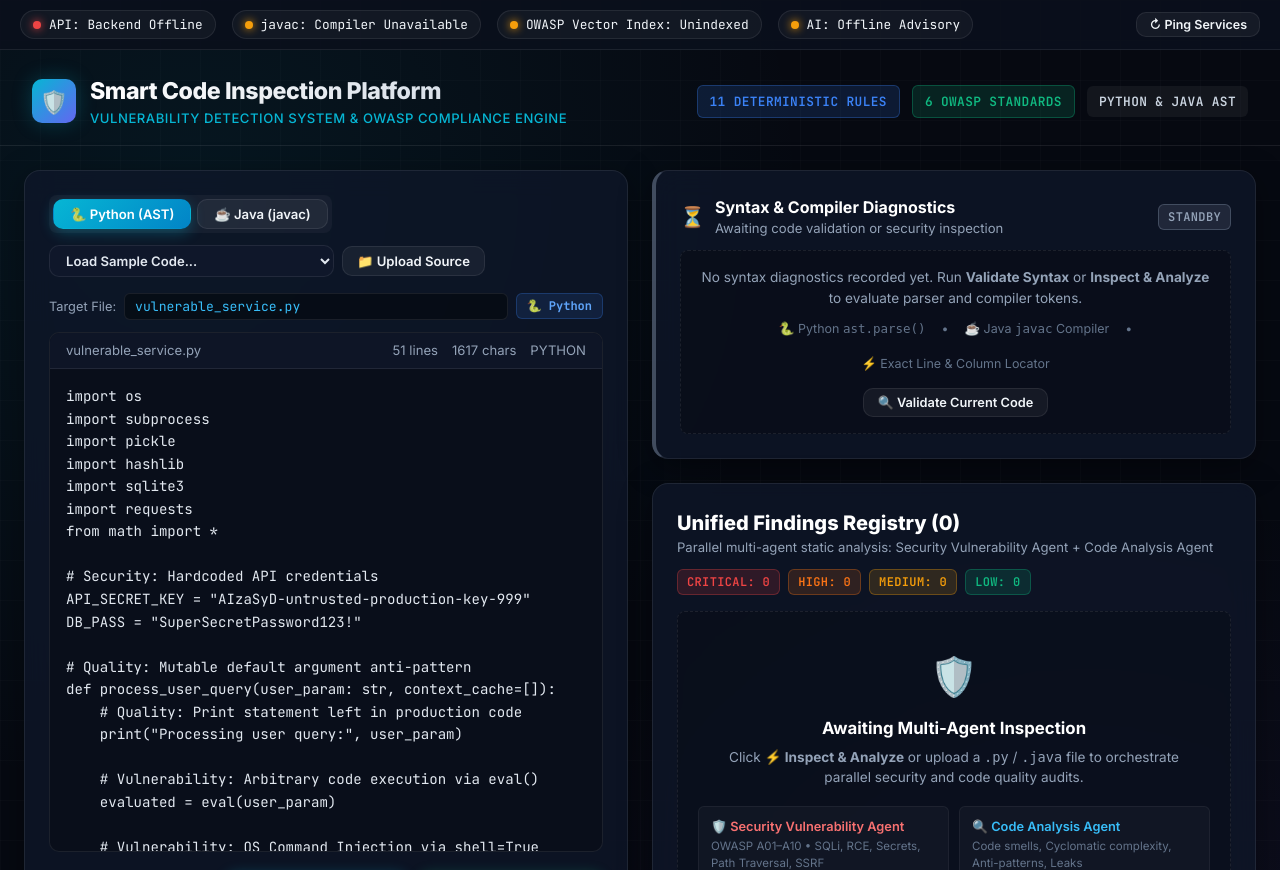
Test: Smart Code Inspection Dashboard › allows language switching between Python and Java
This screenshot has width=1280, height=870.
Click the button "☕ Java (javac)" at [262, 214], box x1=197 y1=199 x2=328 y2=229
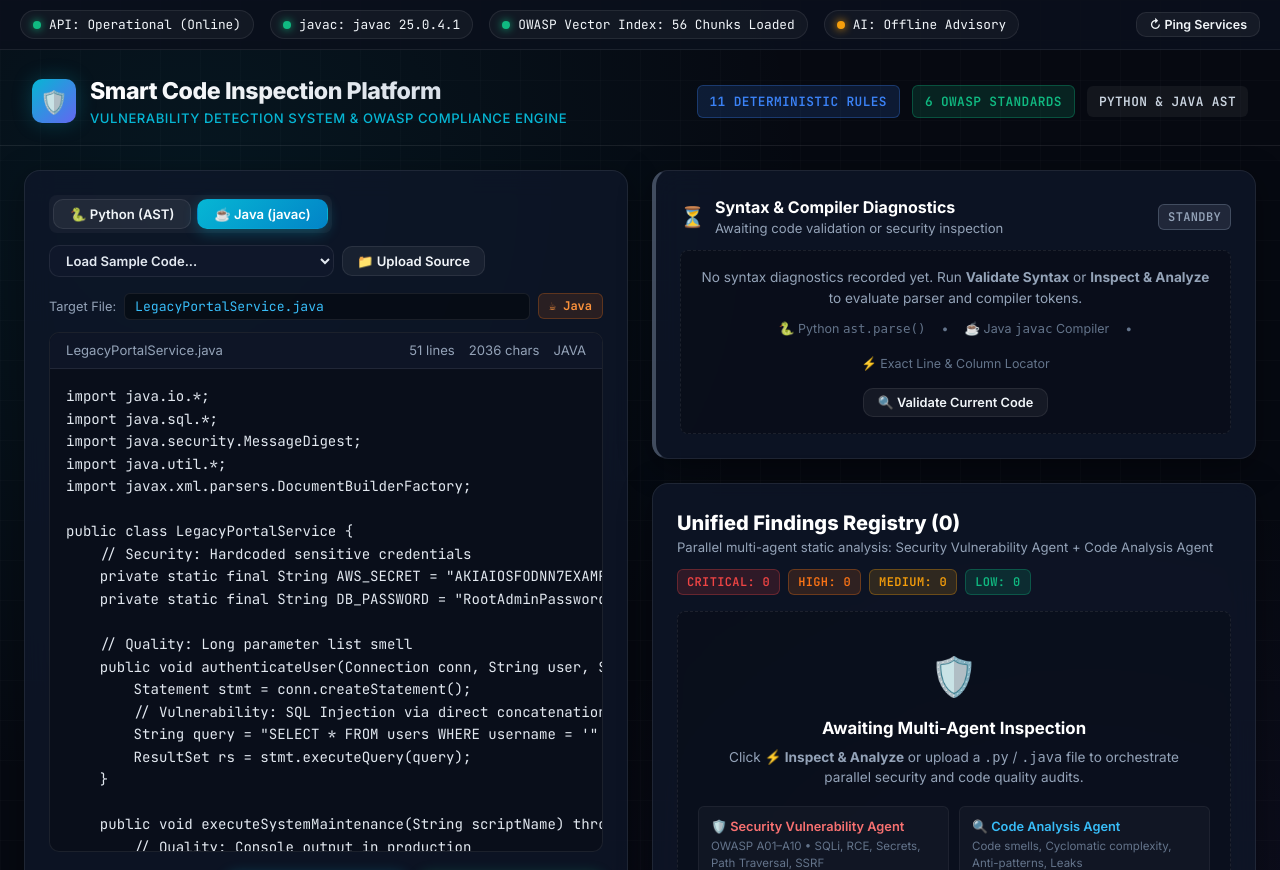
Now the field showing "LegacyPortalService.java" is shown, box x1=124 y1=293 x2=530 y2=320
Click the button "🐍 Python (AST)" at [122, 214], box x1=53 y1=199 x2=191 y2=229
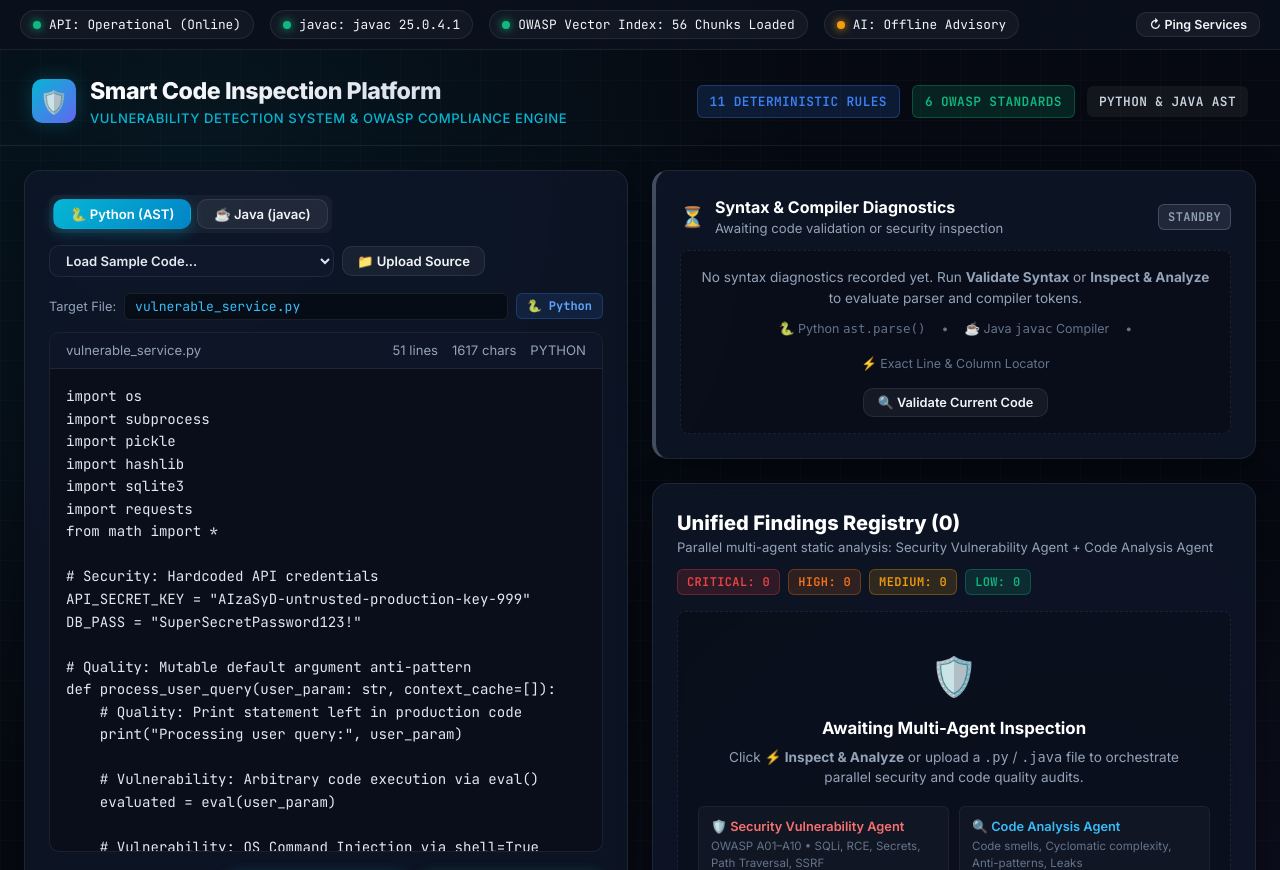
Now the field showing "vulnerable_service.py" is shown, box x1=124 y1=293 x2=508 y2=320
